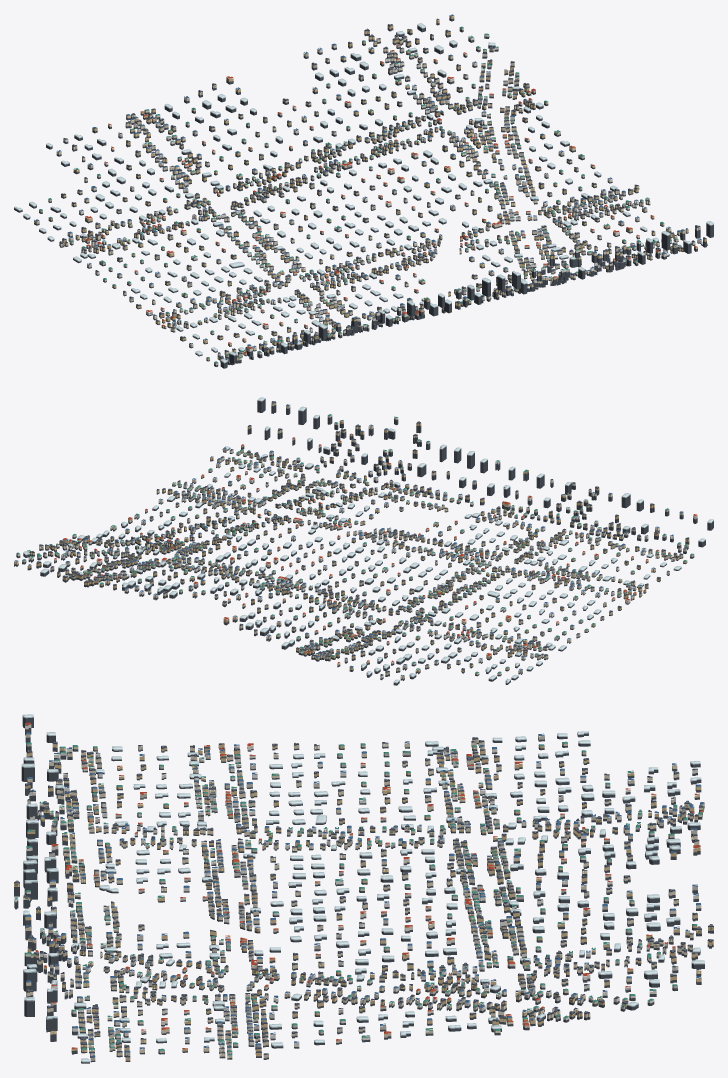
The model's file is osm_buildings_T_W01_N05.glb.
The picture shows the model from 3 angles, top to bottom: view 1: azimuth 30°, elevation 25°; view 2: azimuth 150°, elevation 25°; view 3: azimuth 270°, elevation 25°; orthographic projection. The views are drawn at different scales.
Parts seen in each view (by area): view 1: OSM_T_W01_N05_foundation, OSM_T_W01_N05_greenhouse_blend, OSM_T_W01_N05_wall_cream_stucco, OSM_T_W01_N05_wall_french_ochre, OSM_T_W01_N05_roof_mansard_slate, OSM_T_W01_N05_wall_pastel_sand, OSM_T_W01_N05_wall_warm_white, OSM_T_W01_N05_roof_alpine_blue, OSM_T_W01_N05_roof_mint_metal, OSM_T_W01_N05_roof_mansard_deck, OSM_T_W01_N05_roof_terracotta, OSM_T_W01_N05_balcony_railing; view 2: OSM_T_W01_N05_foundation, OSM_T_W01_N05_greenhouse_blend, OSM_T_W01_N05_wall_cream_stucco, OSM_T_W01_N05_wall_french_ochre, OSM_T_W01_N05_roof_mansard_slate, OSM_T_W01_N05_wall_warm_white, OSM_T_W01_N05_wall_pastel_sand, OSM_T_W01_N05_roof_alpine_blue, OSM_T_W01_N05_roof_mint_metal, OSM_T_W01_N05_roof_mansard_deck, OSM_T_W01_N05_roof_terracotta; view 3: OSM_T_W01_N05_foundation, OSM_T_W01_N05_greenhouse_blend, OSM_T_W01_N05_wall_cream_stucco, OSM_T_W01_N05_wall_french_ochre, OSM_T_W01_N05_roof_mansard_slate, OSM_T_W01_N05_wall_pastel_sand, OSM_T_W01_N05_wall_warm_white, OSM_T_W01_N05_roof_alpine_blue, OSM_T_W01_N05_roof_mint_metal, OSM_T_W01_N05_roof_mansard_deck, OSM_T_W01_N05_roof_terracotta.
Boxes of the visible parts, box(x1,y1,x2,y2) form: OSM_T_W01_N05_foundation: box(14, 18, 713, 368); OSM_T_W01_N05_greenhouse_blend: box(14, 23, 713, 363); OSM_T_W01_N05_wall_cream_stucco: box(39, 36, 700, 365); OSM_T_W01_N05_wall_french_ochre: box(48, 15, 706, 360); OSM_T_W01_N05_roof_mansard_slate: box(60, 18, 706, 358); OSM_T_W01_N05_wall_pastel_sand: box(34, 28, 701, 355); OSM_T_W01_N05_wall_warm_white: box(63, 34, 695, 362); OSM_T_W01_N05_roof_alpine_blue: box(34, 14, 701, 359); OSM_T_W01_N05_roof_mint_metal: box(39, 26, 681, 363); OSM_T_W01_N05_roof_mansard_deck: box(60, 24, 699, 357); OSM_T_W01_N05_roof_terracotta: box(85, 44, 697, 353); OSM_T_W01_N05_balcony_railing: box(61, 26, 699, 358); OSM_T_W01_N05_foundation: box(14, 399, 713, 685); OSM_T_W01_N05_greenhouse_blend: box(23, 397, 713, 683); OSM_T_W01_N05_wall_cream_stucco: box(37, 402, 694, 679); OSM_T_W01_N05_wall_french_ochre: box(14, 421, 689, 672); OSM_T_W01_N05_roof_mansard_slate: box(28, 401, 688, 675); OSM_T_W01_N05_wall_warm_white: box(16, 415, 697, 678); OSM_T_W01_N05_wall_pastel_sand: box(22, 438, 683, 673); OSM_T_W01_N05_roof_alpine_blue: box(14, 404, 686, 676); OSM_T_W01_N05_roof_mint_metal: box(16, 414, 693, 673); OSM_T_W01_N05_roof_mansard_deck: box(31, 401, 688, 671); OSM_T_W01_N05_roof_terracotta: box(54, 433, 696, 663); OSM_T_W01_N05_foundation: box(14, 716, 713, 1063); OSM_T_W01_N05_greenhouse_blend: box(21, 714, 704, 1062); OSM_T_W01_N05_wall_cream_stucco: box(23, 739, 704, 1058); OSM_T_W01_N05_wall_french_ochre: box(14, 744, 713, 1060); OSM_T_W01_N05_roof_mansard_slate: box(14, 737, 713, 1056); OSM_T_W01_N05_wall_pastel_sand: box(25, 734, 697, 1060); OSM_T_W01_N05_wall_warm_white: box(14, 724, 702, 1056); OSM_T_W01_N05_roof_alpine_blue: box(25, 732, 704, 1056); OSM_T_W01_N05_roof_mint_metal: box(14, 741, 702, 1055); OSM_T_W01_N05_roof_mansard_deck: box(15, 737, 713, 1048); OSM_T_W01_N05_roof_terracotta: box(25, 722, 702, 1049).
Size of the model in its own units: 1945 by 225 by 1829.
